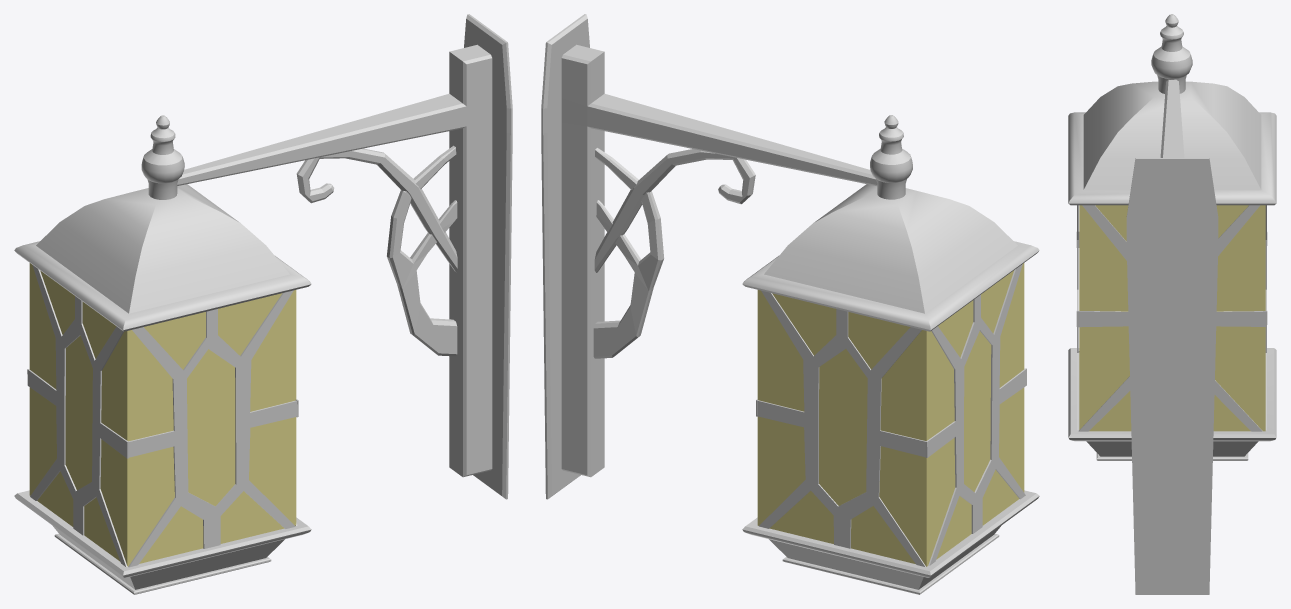
The model's file is Lantern_Tavern.fbx.
The picture shows the model from 3 angles, left to right: view 1: azimuth 30°, elevation 25°; view 2: azimuth 150°, elevation 25°; view 3: azimuth 270°, elevation 25°; orthographic projection. The views are drawn at different scales.
Visible parts, largest first — view 1: Lantern_Tavern; view 2: Lantern_Tavern; view 3: Lantern_Tavern.
Boxes of the visible parts, box(x1,y1,x2,y2) form: Lantern_Tavern: box(14, 14, 512, 594); Lantern_Tavern: box(541, 14, 1039, 594); Lantern_Tavern: box(1068, 14, 1276, 594).
Bounding box in the file's own units: 55.68 × 57.85 × 25.01.
